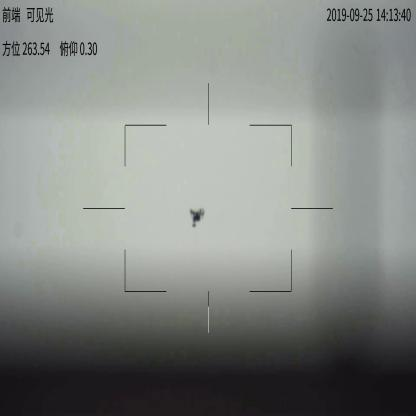uav: (188, 206, 206, 230)
